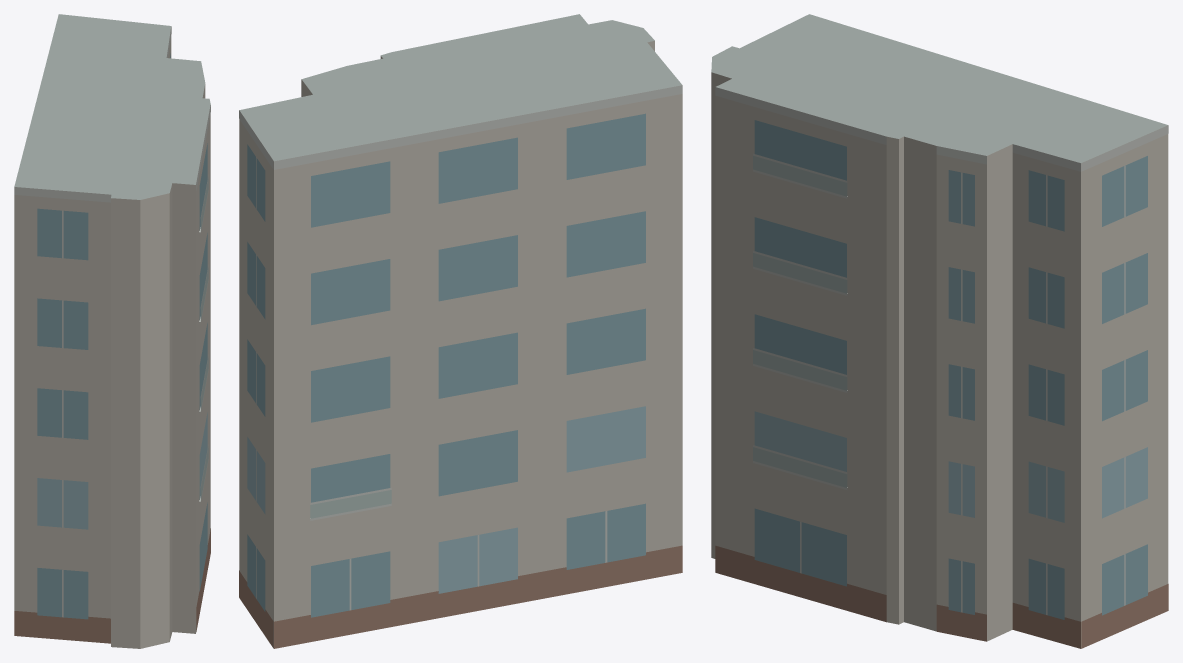
File: survey-upis-32629449.glb
The picture shows the model from 3 angles, left to right: view 1: azimuth 30°, elevation 25°; view 2: azimuth 150°, elevation 25°; view 3: azimuth 270°, elevation 25°; orthographic projection. The views are drawn at different scales.
Parts seen in each view (by area): view 1: survey-upis-32629449.tmp; view 2: survey-upis-32629449.tmp; view 3: survey-upis-32629449.tmp.
Boxes of the visible parts, bbox=[...] form: survey-upis-32629449.tmp: bbox=[14, 14, 210, 648]; survey-upis-32629449.tmp: bbox=[239, 14, 682, 648]; survey-upis-32629449.tmp: bbox=[711, 14, 1168, 648].
Bounding box in the file's own units: 9.07 × 13.75 × 11.73.
